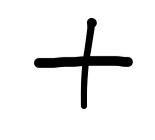plus: (33, 18, 134, 107)
